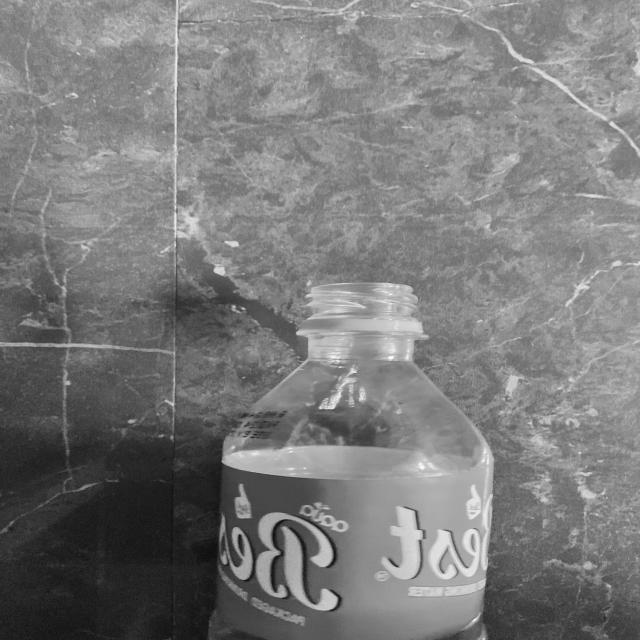open-cap: (298, 281, 420, 335)
